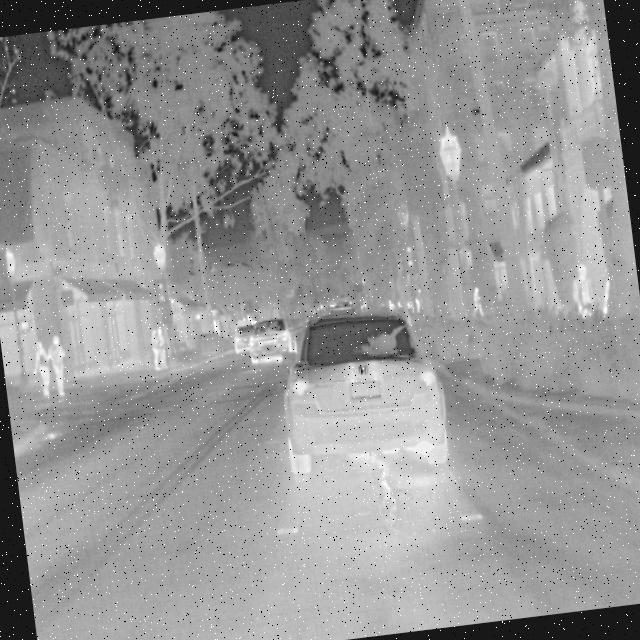Pedestrian: (44, 331, 72, 398), (568, 262, 598, 324), (27, 336, 54, 401), (468, 285, 486, 320), (154, 326, 168, 369), (149, 327, 162, 372)
Vehicle: (268, 292, 454, 484), (242, 312, 298, 368)
